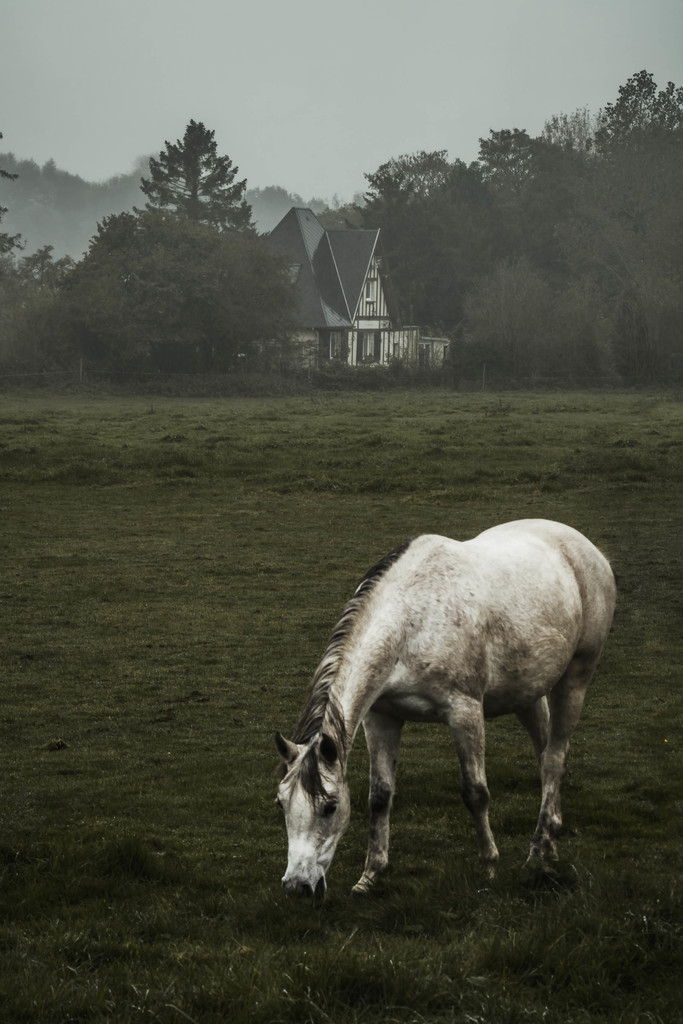horse: (275, 520, 613, 898)
